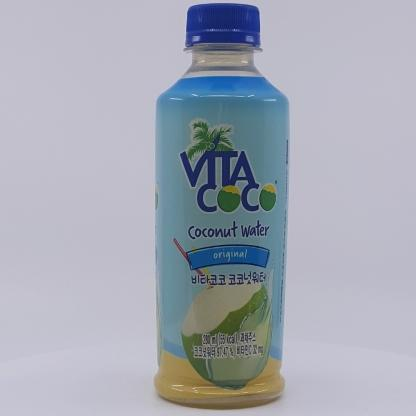----------280ml: (153, 3, 290, 410)
